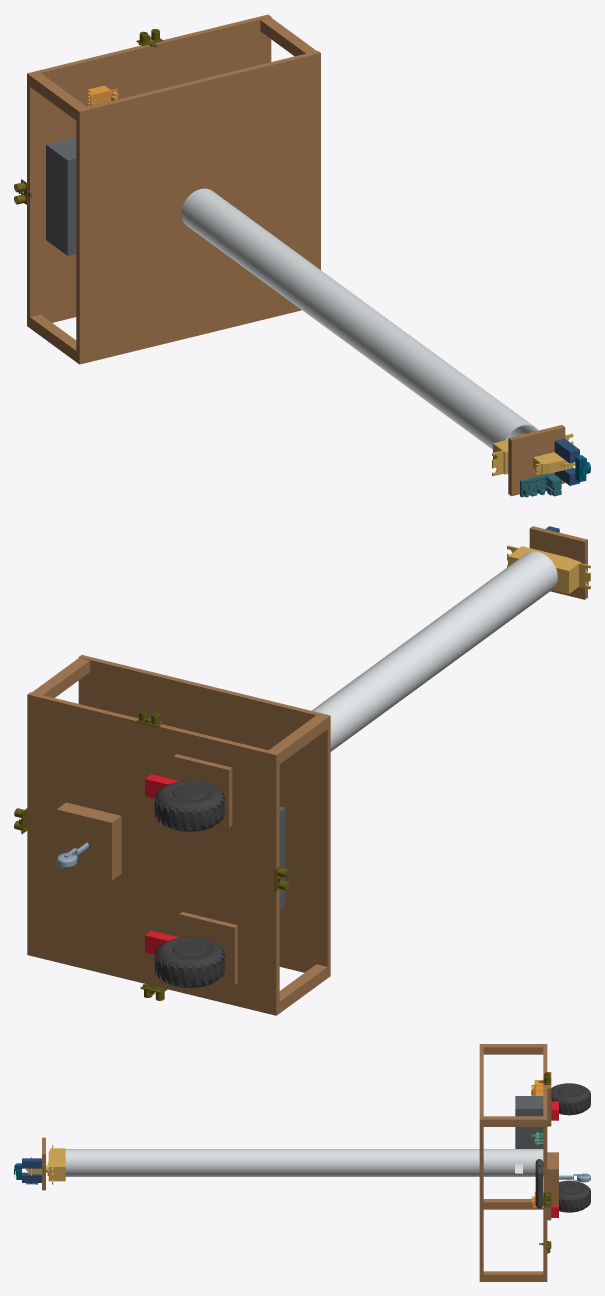
Rendered from tinker.obj.
The picture shows the model from 3 angles, top to bottom: view 1: azimuth 30°, elevation 25°; view 2: azimuth 150°, elevation 25°; view 3: azimuth 270°, elevation 25°; orthographic projection. The views are drawn at different scales.
Parts seen in each view (by area): view 1: group_0_11107152, group_0_14541540, group_0_6383466, group_0_14528853, group_0_3371643, group_0_3101308, group_0_6970902; view 2: group_0_11107152, group_0_14541540, group_0_4210752, group_0_14528853, group_0_6970902, group_0_15277357; view 3: group_0_14541540, group_0_11107152, group_0_4210752, group_0_6383466, group_0_14528853, group_0_3101308, group_0_5000268, group_0_6970902.
Boxes of the visible parts, box(x1,y1,x2,y2) form: group_0_11107152: box(27, 14, 565, 496); group_0_14541540: box(181, 188, 538, 449); group_0_6383466: box(46, 137, 76, 255); group_0_14528853: box(492, 433, 575, 476); group_0_3371643: box(520, 473, 561, 497); group_0_3101308: box(554, 438, 579, 485); group_0_6970902: box(14, 29, 162, 205); group_0_11107152: box(27, 526, 587, 1015); group_0_14541540: box(311, 551, 557, 751); group_0_4210752: box(154, 780, 224, 988); group_0_14528853: box(507, 545, 590, 593); group_0_6970902: box(14, 709, 289, 1000); group_0_15277357: box(145, 774, 179, 954); group_0_14541540: box(65, 1149, 543, 1176); group_0_11107152: box(42, 1044, 558, 1281); group_0_4210752: box(551, 1083, 590, 1212); group_0_6383466: box(515, 1096, 543, 1148); group_0_14528853: box(26, 1145, 65, 1184); group_0_3101308: box(22, 1158, 41, 1182); group_0_5000268: box(535, 1159, 543, 1208); group_0_6970902: box(539, 1072, 551, 1253).
Bounding box in the file's own units: 49.04 × 49 × 145.
